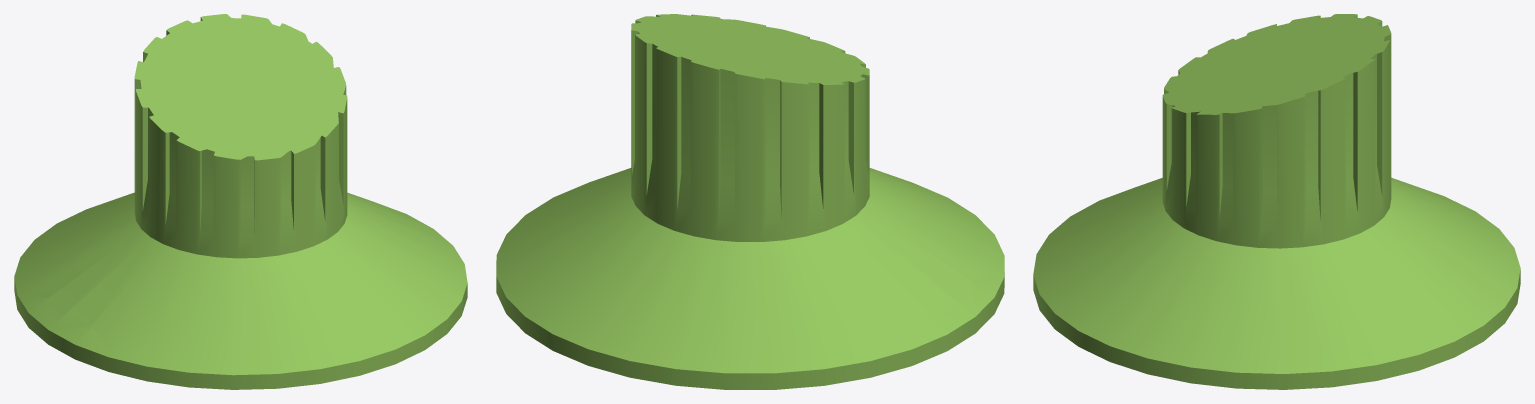
Rendered from ColumnSectionColumnSection4.obj.
The picture shows the model from 3 angles, left to right: view 1: azimuth 30°, elevation 25°; view 2: azimuth 150°, elevation 25°; view 3: azimuth 270°, elevation 25°; orthographic projection. The views are drawn at different scales.
Visible parts, largest first — view 1: ColumnSectionColumnSection4; view 2: ColumnSectionColumnSection4; view 3: ColumnSectionColumnSection4.
Part boxes in pixels (x1,y1,x2,y2): ColumnSectionColumnSection4: (14,14,467,389); ColumnSectionColumnSection4: (496,14,1004,389); ColumnSectionColumnSection4: (1033,14,1520,389).
Size of the model in its own units: 11.89 by 6.83 by 11.89.
